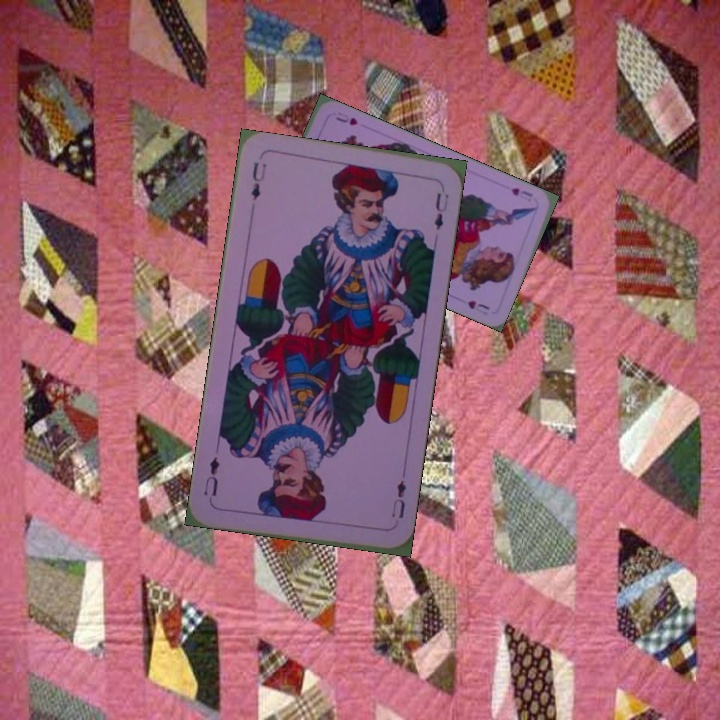EU: (387, 475, 409, 521), (247, 158, 269, 203)
HU: (507, 184, 535, 204)
